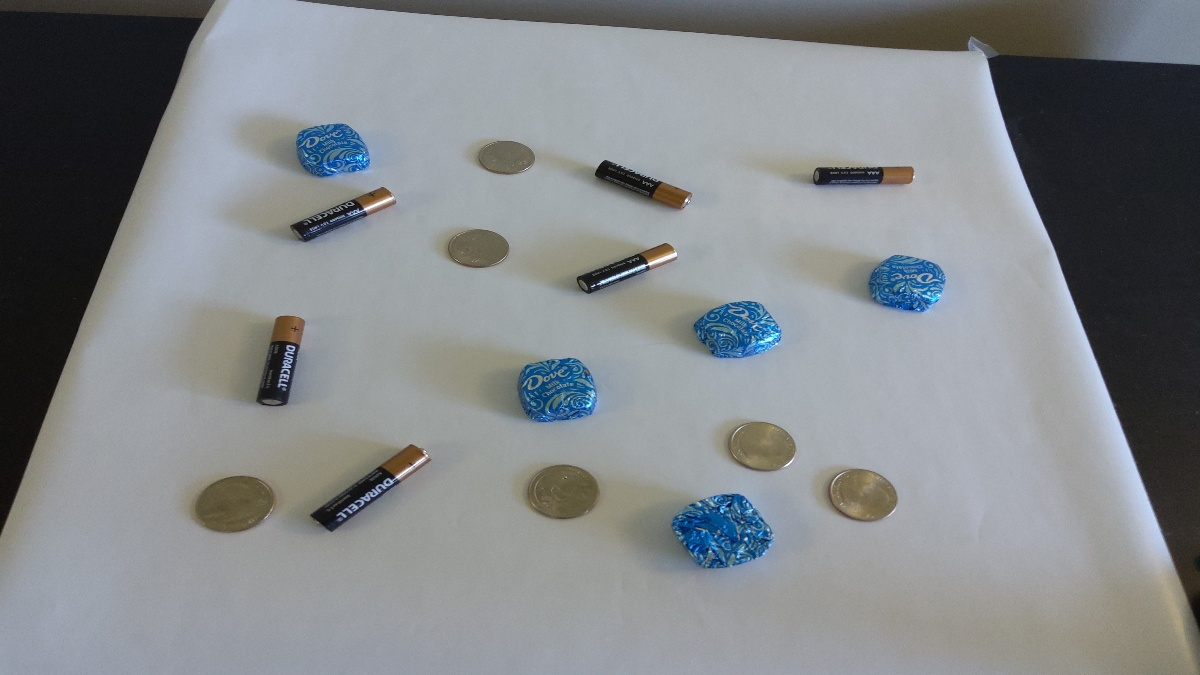battery: (303, 433, 437, 531), (252, 308, 308, 418)
chocolate_blue: (663, 480, 787, 579), (517, 354, 608, 425), (690, 298, 787, 363), (865, 251, 952, 319), (288, 115, 370, 181)
coin_quarter: (520, 451, 600, 526), (820, 457, 903, 526), (720, 412, 804, 475), (197, 471, 279, 535), (437, 221, 516, 283), (472, 133, 539, 183)
